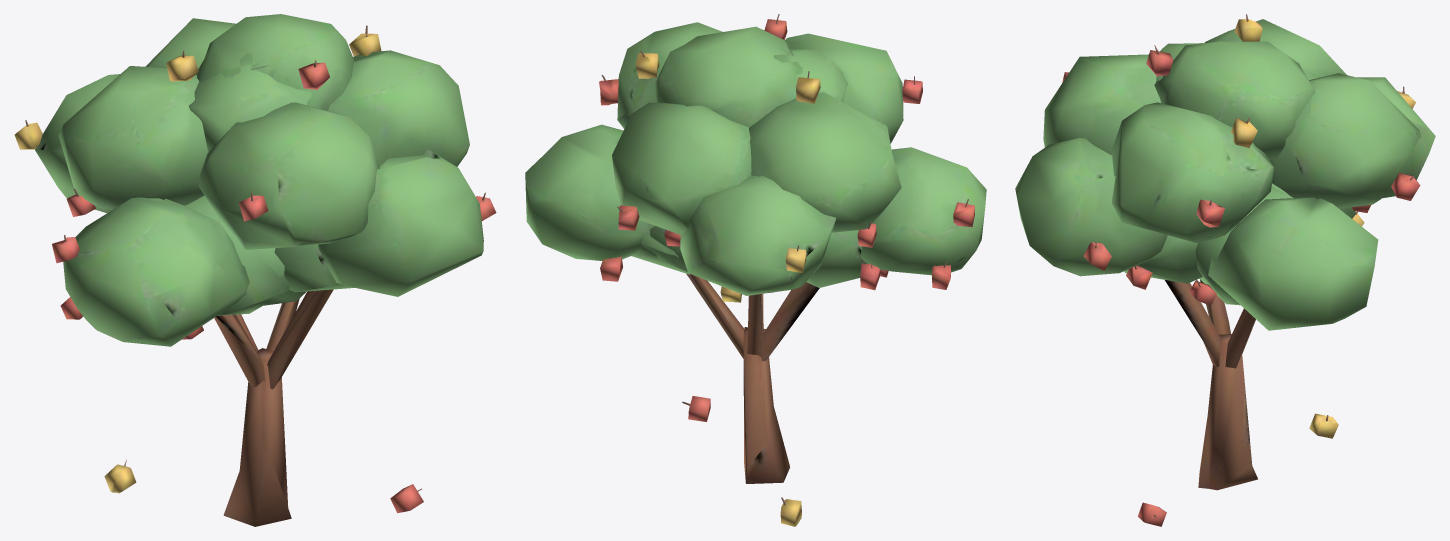
The model's file is p_apple.glb.
The picture shows the model from 3 angles, left to right: view 1: azimuth 30°, elevation 25°; view 2: azimuth 150°, elevation 25°; view 3: azimuth 270°, elevation 25°; orthographic projection. The views are drawn at different scales.
Parts seen in each view (by area): view 1: apple-tree_body; view 2: apple-tree_body; view 3: apple-tree_body.
Boxes of the visible parts, x1,y1,x2,y2 form: apple-tree_body: (14, 14, 496, 526); apple-tree_body: (525, 14, 986, 526); apple-tree_body: (1015, 14, 1435, 526).
Bounding box in the file's own units: 3.8 × 4.02 × 3.43.
Materials: 1 (1 with a texture image).
